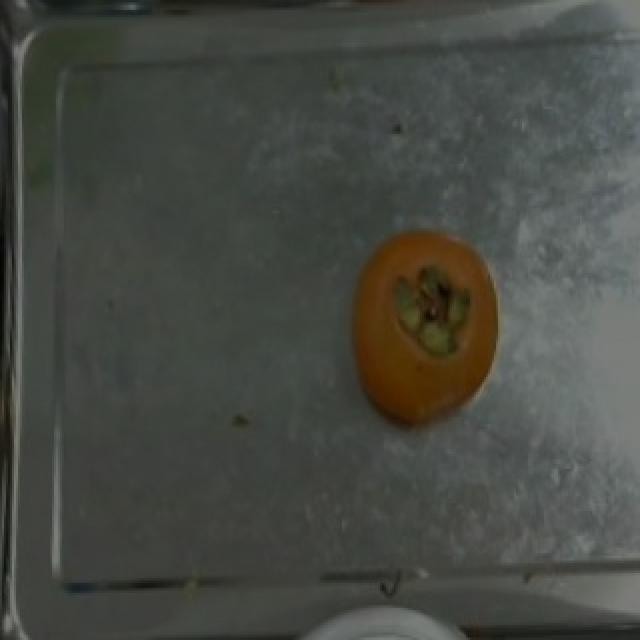Fruit: (328, 208, 526, 446)
